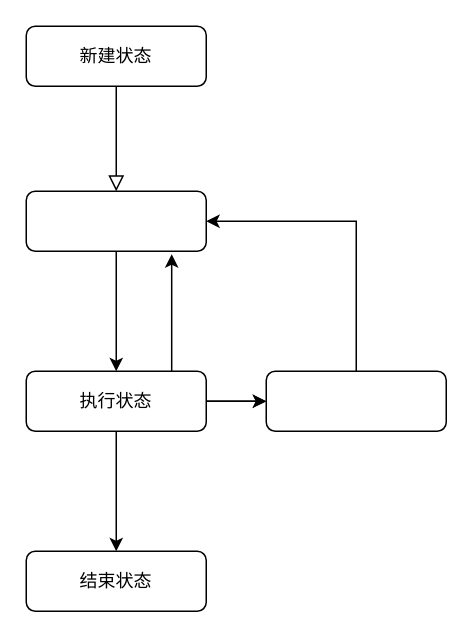
The diagram is 473 pixels wide and 638 high, and some of its shapes have lost their labels. The shapes that lost their labels are listed below. From the top down, each one's centre as x and y in pixels, then its label:
(x=115, y=220): 就绪状态
(x=355, y=400): 阻塞状态
